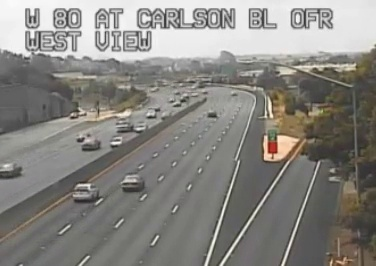car: (72, 183, 97, 201), (120, 175, 144, 191)
